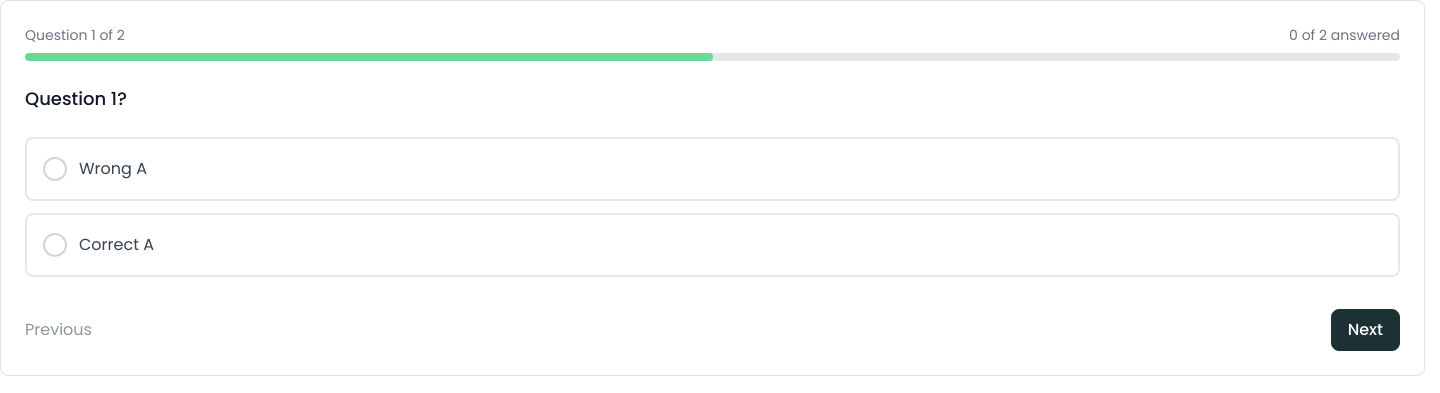
Scenario: Quiz › clicking option updates answer count
Click the button "Correct A" at (117, 244), box 25,213 -> 1400,277
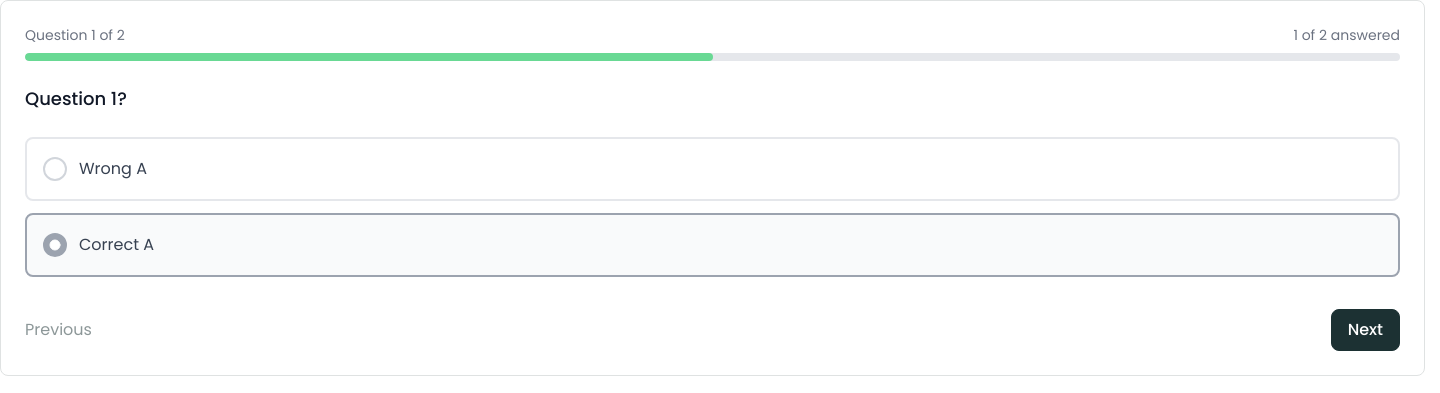
Now the text "1 of 2 answered" is shown, box 1293,25 -> 1400,45
